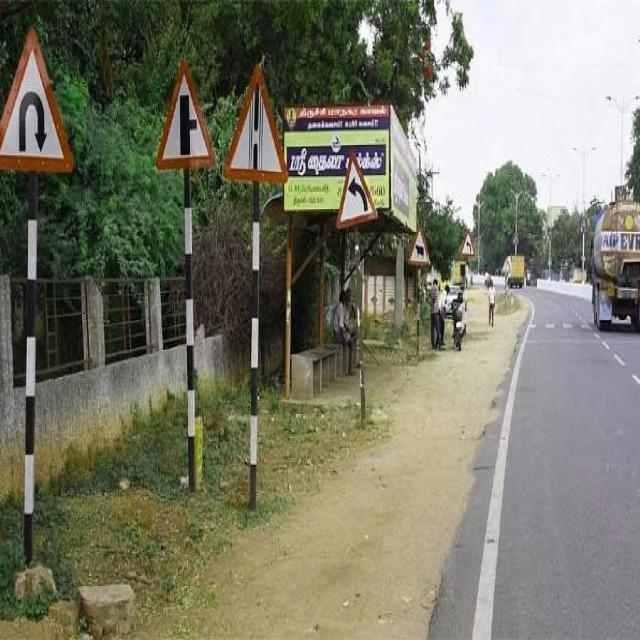Sideroad_toright: (155, 61, 211, 182)
Uturn: (0, 44, 79, 180)
cattle: (408, 223, 433, 268)
gap_in_median: (223, 70, 287, 188)
left_hand_curve: (330, 155, 384, 233), (462, 230, 477, 262)
